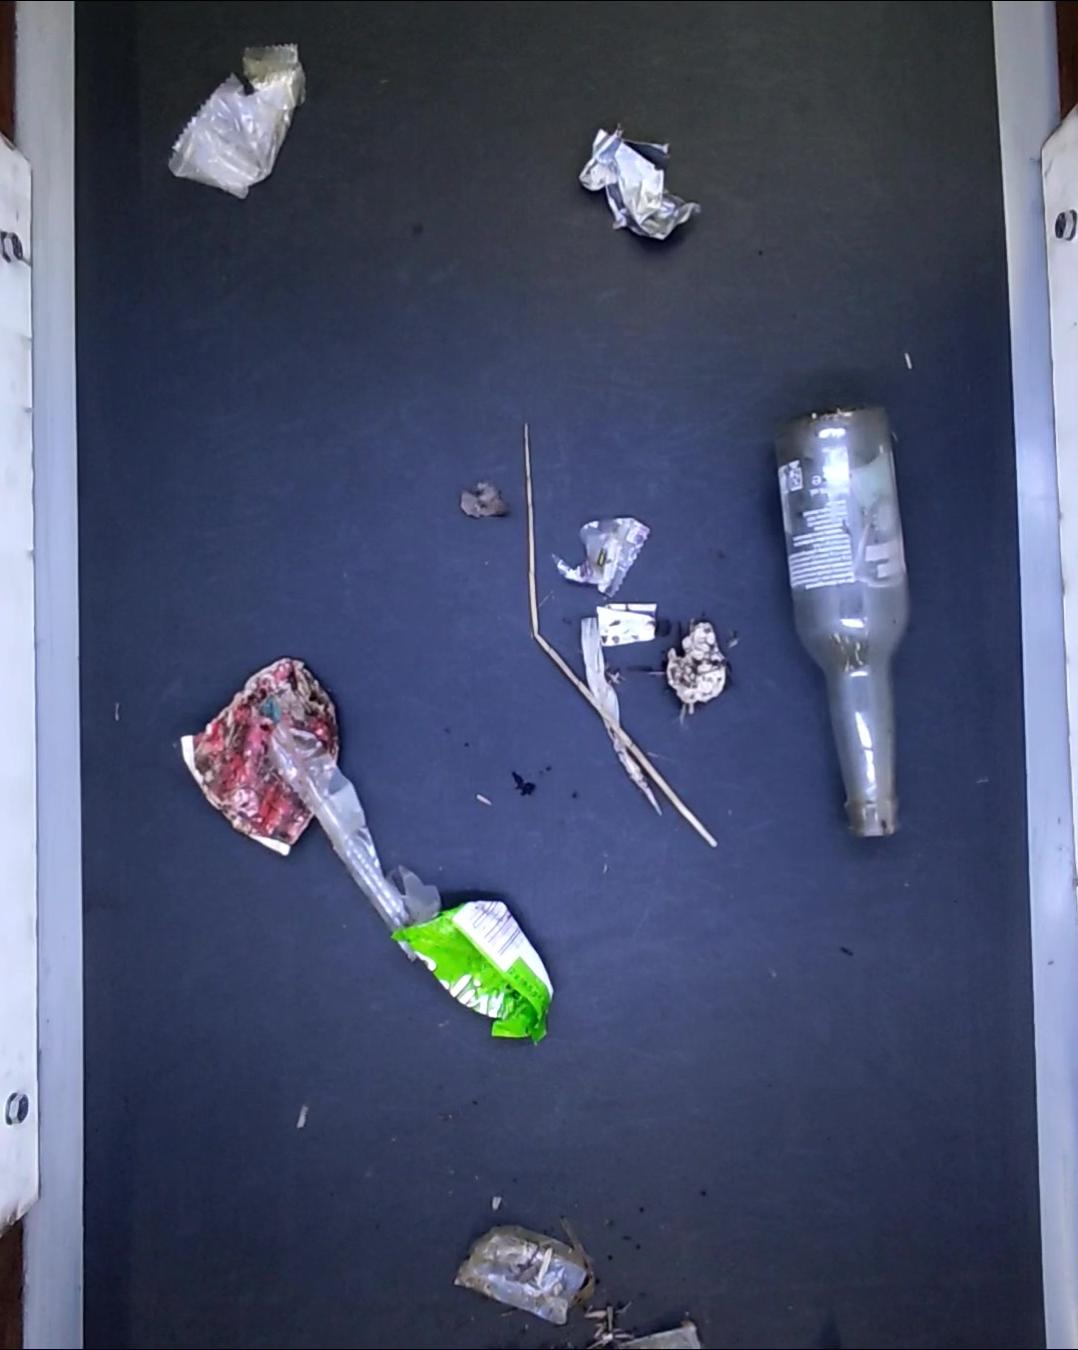Plastic folies of stukken daarvan 2.5- 50 cm: (260, 721, 442, 965), (166, 42, 305, 195), (451, 1220, 588, 1324)
Snoep snack en chips verpakkingen: (392, 899, 569, 1046), (550, 512, 652, 600)
